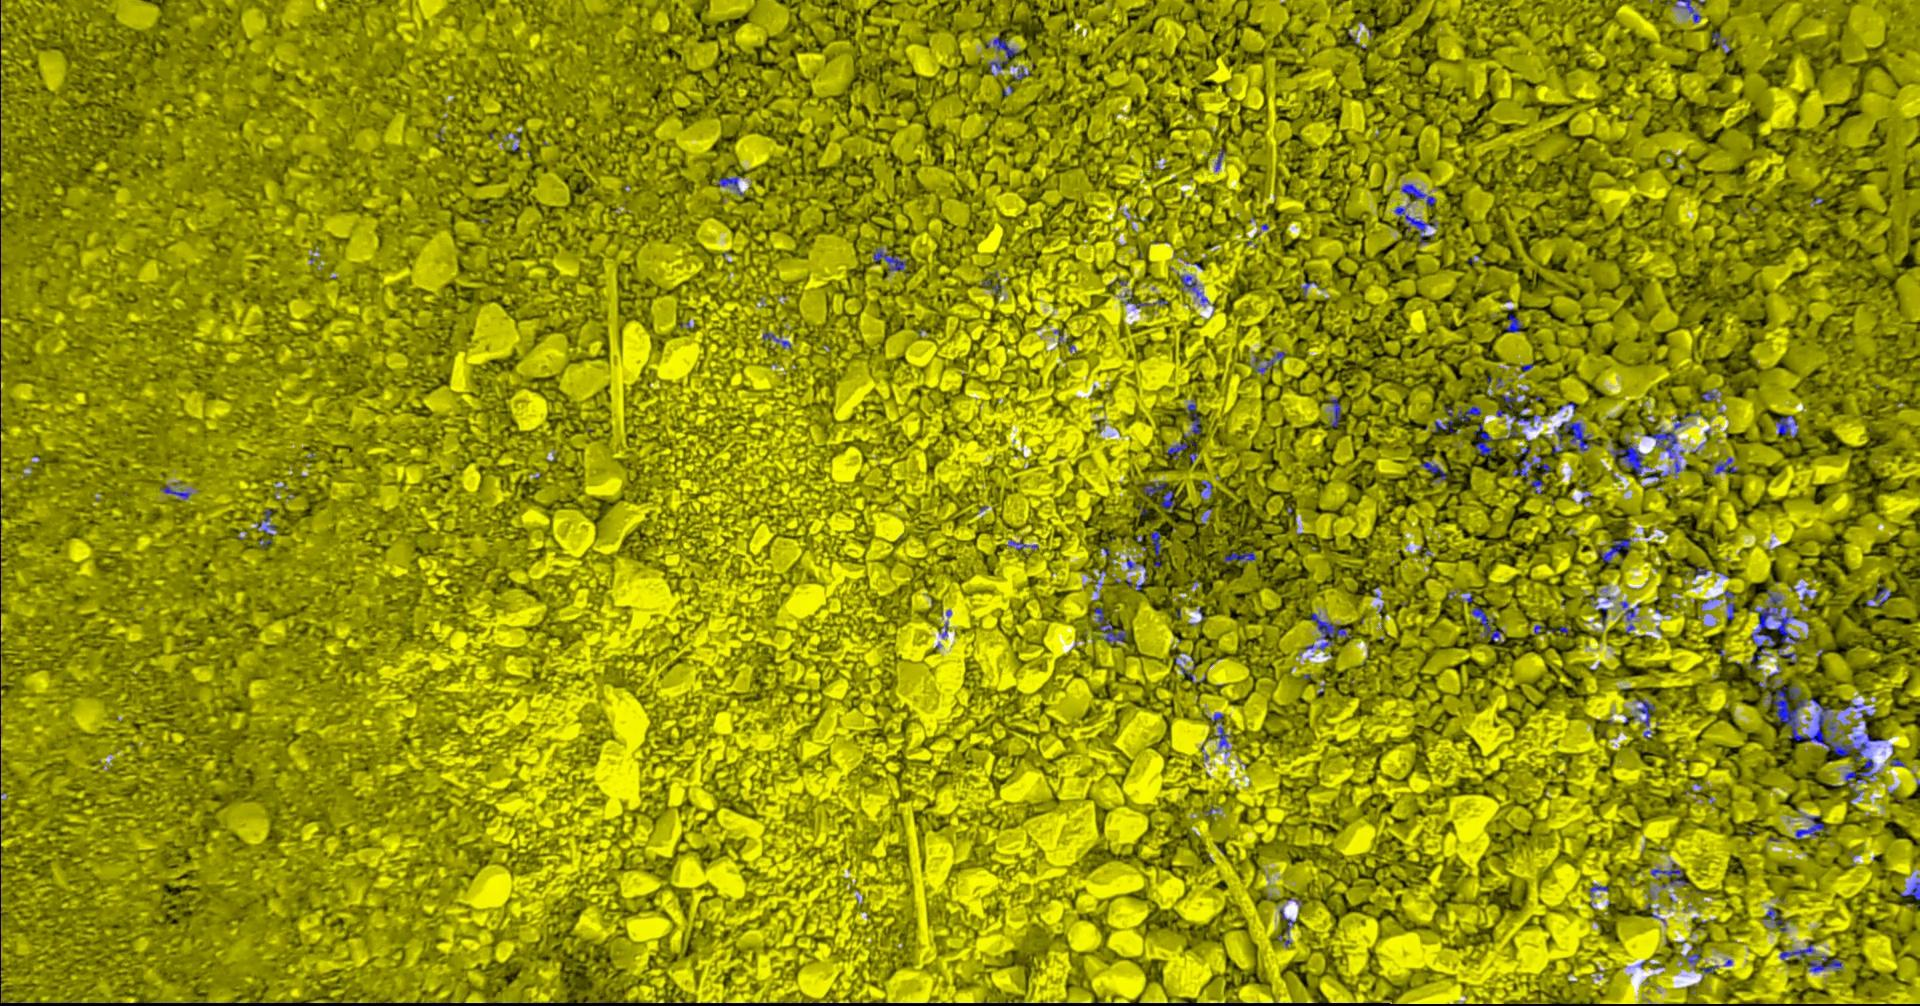ant: (1750, 588, 1801, 669), (1310, 612, 1352, 650), (1396, 206, 1437, 243), (1515, 439, 1552, 476), (1611, 439, 1650, 473), (987, 36, 1018, 74), (1095, 607, 1128, 643), (1557, 420, 1592, 451), (1473, 607, 1503, 640), (1652, 862, 1693, 885), (1145, 481, 1175, 512), (1646, 429, 1677, 457), (1181, 276, 1210, 304), (1599, 537, 1632, 561), (1403, 183, 1437, 206), (875, 248, 909, 271), (1846, 758, 1877, 782), (258, 509, 277, 547), (1638, 699, 1657, 737), (1797, 815, 1826, 840), (1257, 351, 1288, 373), (1867, 583, 1892, 607), (1806, 955, 1843, 972), (1476, 423, 1495, 455), (1766, 907, 1790, 931), (1436, 408, 1458, 433), (1782, 942, 1815, 959), (719, 175, 745, 196), (1215, 713, 1230, 748), (1170, 439, 1197, 459), (1679, 0, 1703, 22), (1777, 414, 1799, 436), (764, 332, 792, 348), (1422, 461, 1448, 479), (1189, 403, 1203, 433), (1152, 530, 1163, 567), (1281, 908, 1298, 934), (163, 484, 190, 498), (1507, 307, 1523, 332), (1225, 551, 1257, 563), (1622, 601, 1641, 620), (1716, 457, 1738, 473), (1724, 589, 1736, 620), (1458, 406, 1482, 420), (1686, 946, 1703, 967), (1331, 398, 1342, 427), (1902, 882, 1920, 899), (1503, 387, 1517, 409), (1713, 30, 1727, 44)
